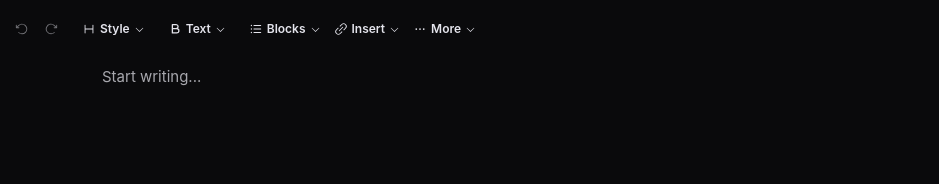
DocumentEditor find and replace › inserts rich document placeholder smart chips from the @ menu
Step 1. Type "@pla" into the field named "Document editor" → (512, 83), box [102, 64, 922, 102]
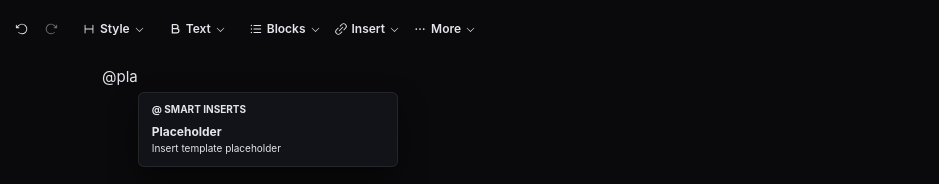
Expected: the option "Placeholder Insert template placeholder" is shown
Step 2. Click the option "Placeholder Insert template placeholder" → (268, 140), box [144, 119, 392, 161]
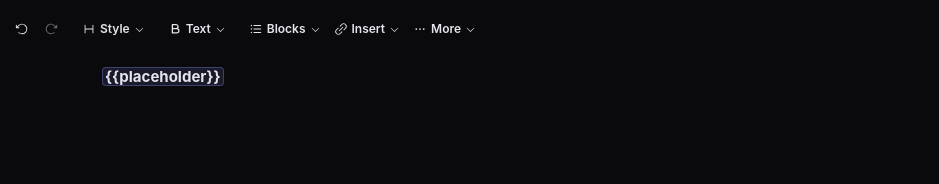
Expected: the text box labelled "{{placeholder}}" is shown, [102, 67, 224, 86]
Expected: the field no longer shows "@pla"
